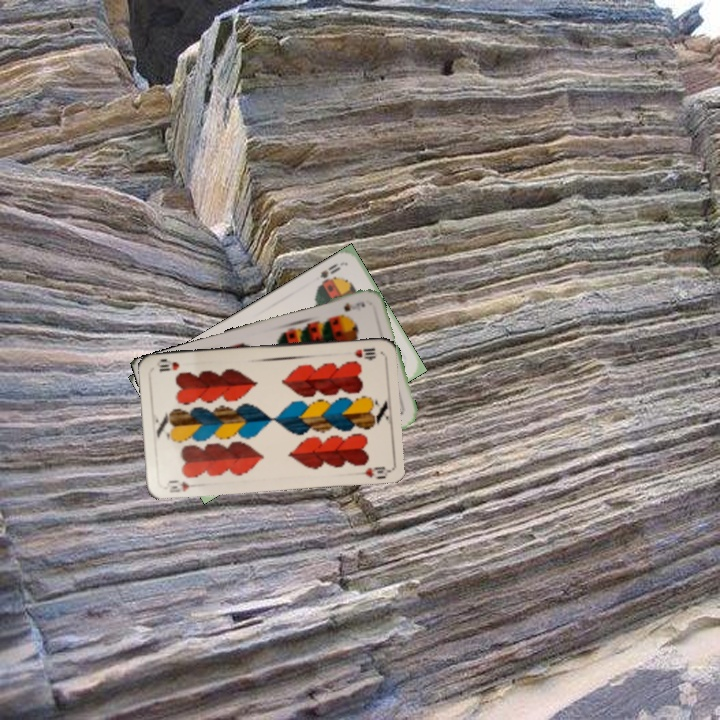H10: (165, 476, 192, 494), (351, 344, 378, 360)
S9: (340, 297, 368, 314)
SO: (313, 259, 343, 290)
